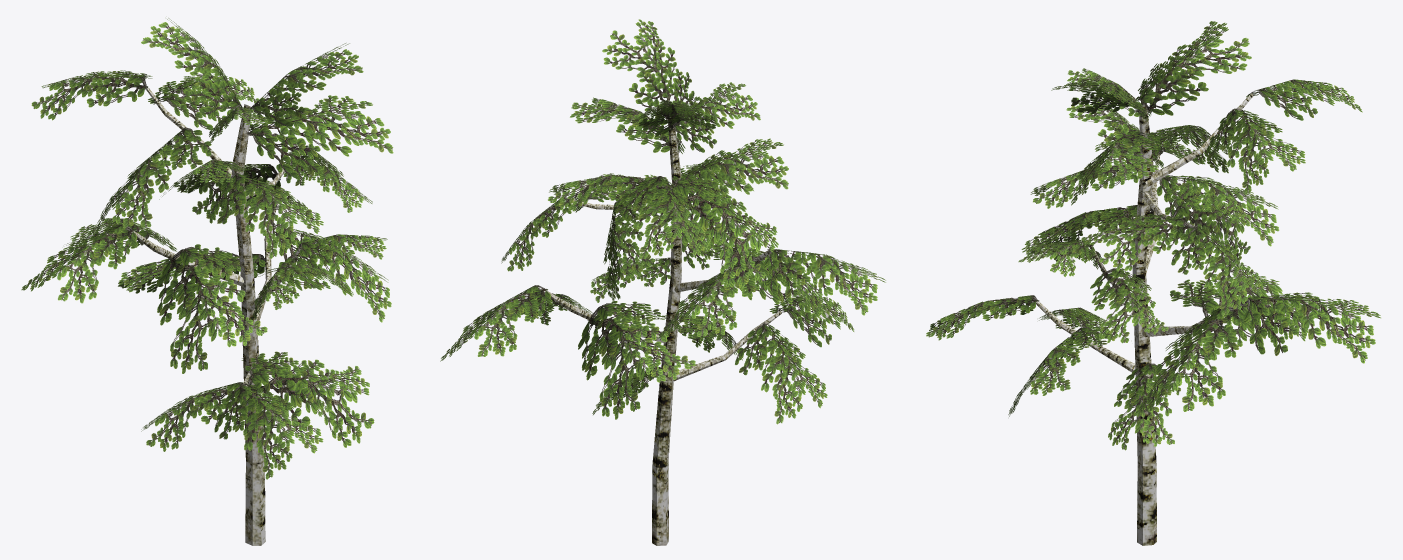
Rendered from SM_BirchB.glb.
3 renders of one model, left to right at view 1: azimuth 30°, elevation 25°; view 2: azimuth 150°, elevation 25°; view 3: azimuth 270°, elevation 25°, orthographic. The views are drawn at different scales.
Visible parts, largest first — view 1: SM_BirchB; view 2: SM_BirchB; view 3: SM_BirchB.
Part boxes in pixels (left/top/right/bottom): SM_BirchB: left=21, top=18, right=393, bottom=545; SM_BirchB: left=440, top=19, right=885, bottom=545; SM_BirchB: left=926, top=21, right=1380, bottom=545.
Bounding box in the file's own units: 9.01 × 11 × 9.41.
Materials: 1 (1 with a texture image).
